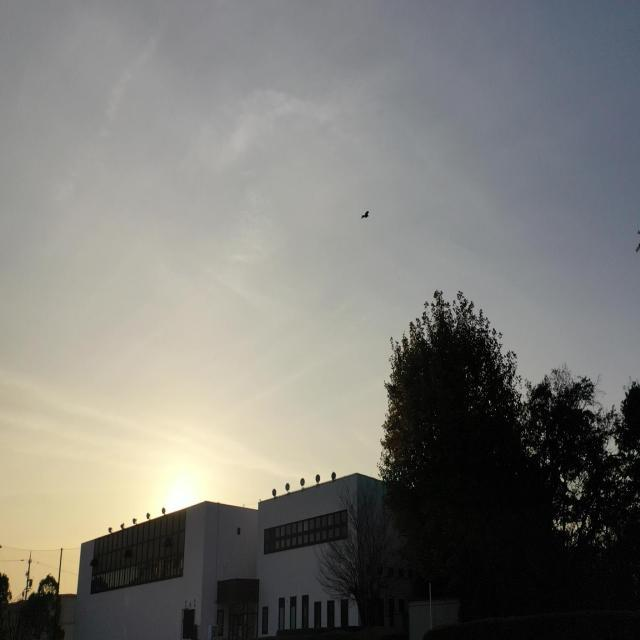Birds: (353, 195, 378, 234)
